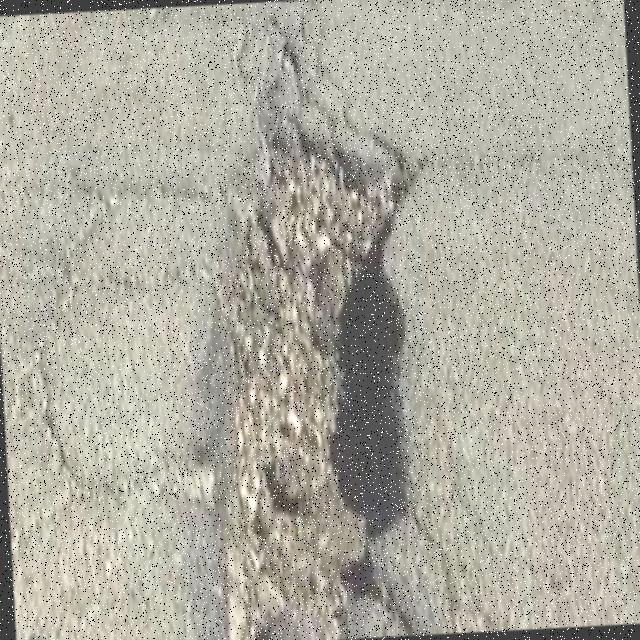Pothole: (130, 126, 411, 640)
